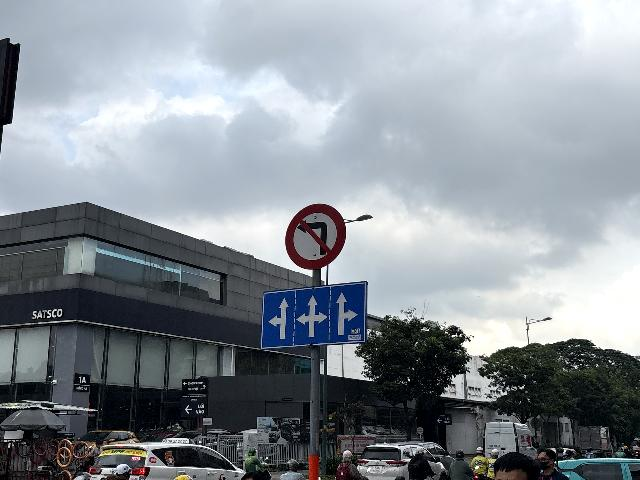cam-re-trai: (284, 203, 347, 270)
